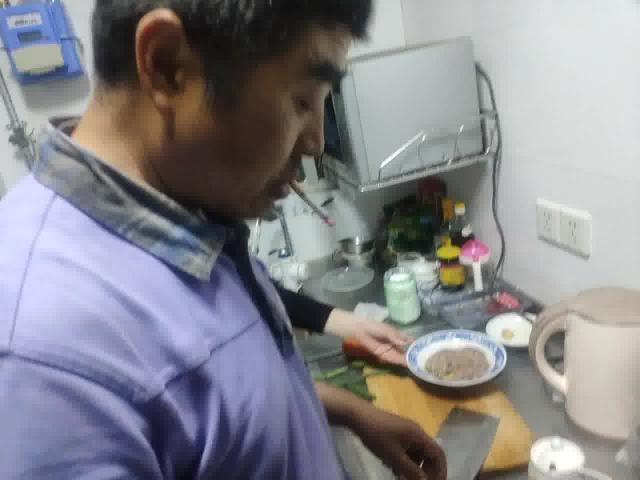Smoking: (290, 178, 334, 226)
